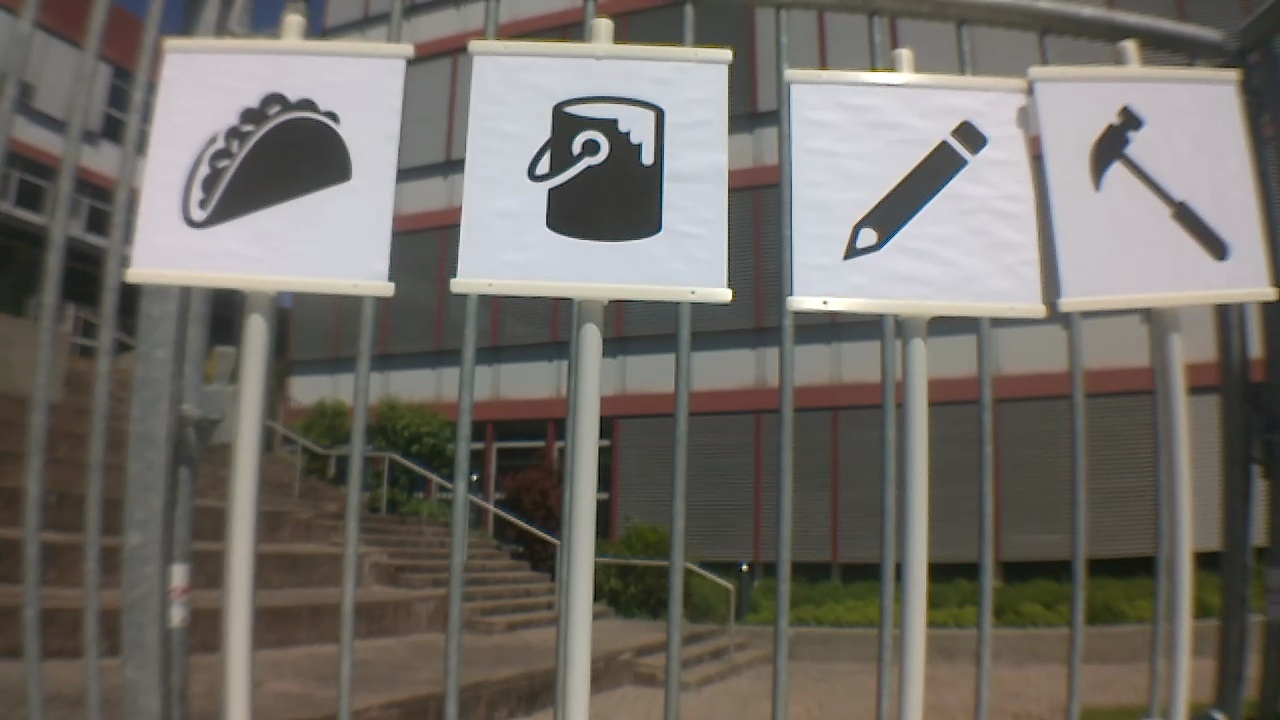bucket: (520, 88, 672, 246)
hammer: (1086, 109, 1236, 259)
pencil: (839, 114, 995, 267)
taco: (179, 94, 358, 231)
